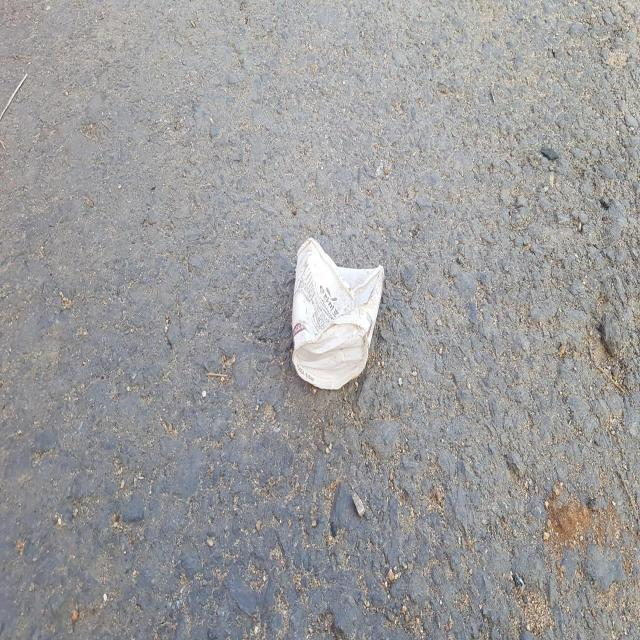paperpack: (292, 238, 384, 388)
